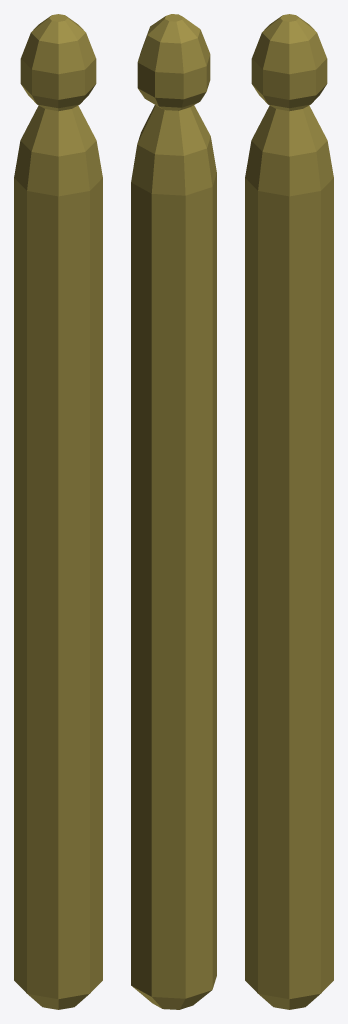
Rendered from DrumStick.obj.
The picture shows the model from 3 angles, left to right: view 1: azimuth 90°, elevation 25°; view 2: azimuth 150°, elevation 25°; view 3: azimuth 270°, elevation 25°; orthographic projection.
Parts seen in each view (by area): view 1: Cylinder; view 2: Cylinder; view 3: Cylinder.
Boxes of the visible parts, x1=… form: Cylinder: x1=14, y1=14, x2=102, y2=1009; Cylinder: x1=131, y1=14, x2=216, y2=1009; Cylinder: x1=245, y1=14, x2=333, y2=1009.
Bounding box in the file's own units: 0.2 × 2.44 × 0.2.
